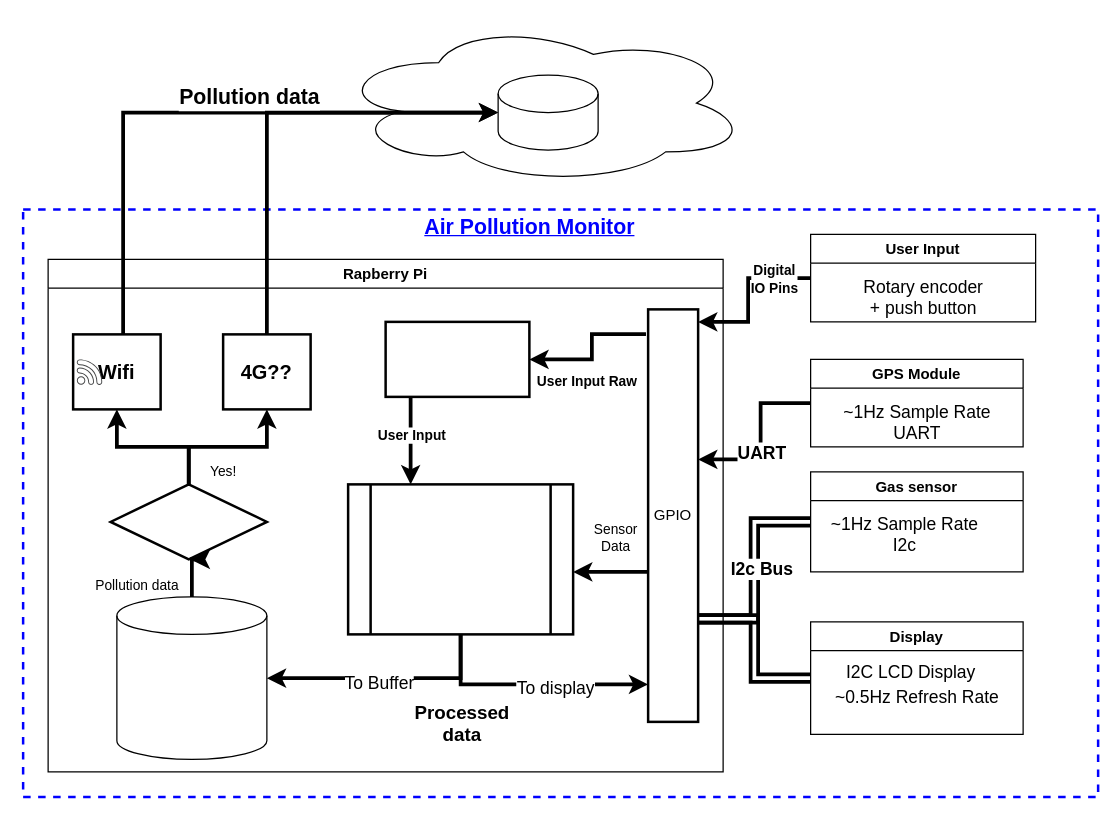
This 1120x820 diagram has some shape labels left out. Each missing label, with the centre of its shape:
"connectivity?" goes at point (188, 521).
"Data Processing - Velocity - distance - average air pollution" goes at point (460, 558).
"Digital De-bounce" goes at point (457, 359).
"Local Storage Buffer" goes at point (191, 677).
